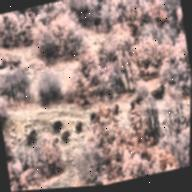boar: (25, 125, 43, 142), (61, 127, 71, 145), (159, 82, 168, 101), (52, 114, 62, 131), (73, 116, 83, 132), (130, 95, 143, 107), (111, 100, 119, 116), (49, 132, 59, 143), (151, 85, 158, 99), (104, 102, 110, 117), (88, 107, 94, 120)
